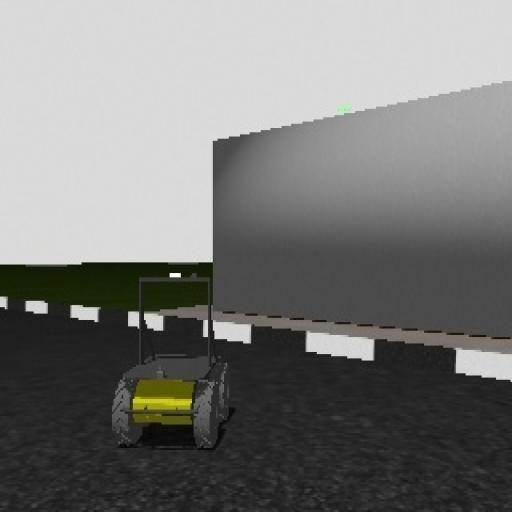huskya200: (104, 270, 235, 452)
